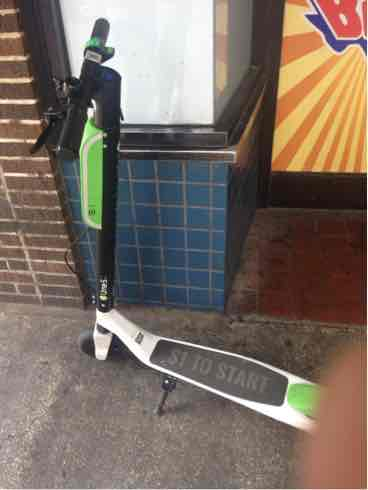scooter: (26, 18, 359, 449)
